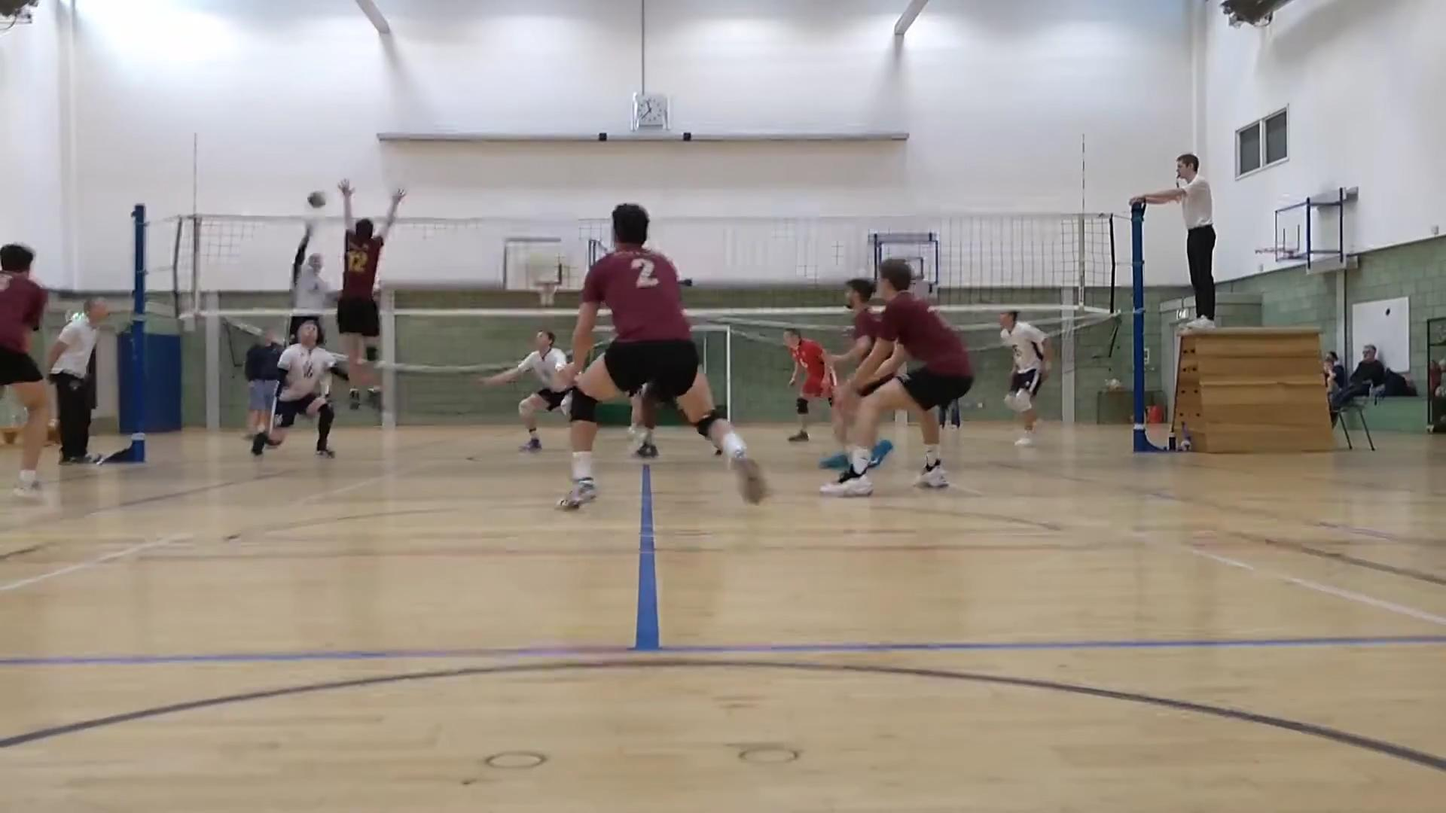attacco: (277, 207, 331, 355)
muro: (328, 177, 415, 402)
